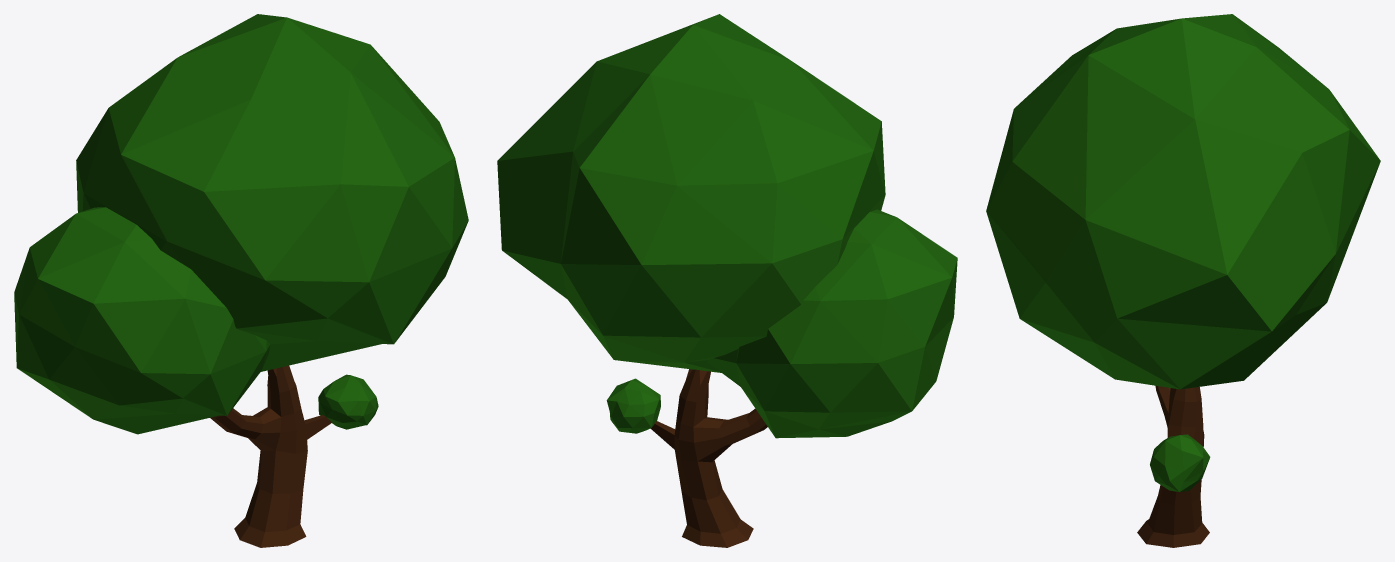
Rendered from Tree_01.FBX.
3 views of the same model, side by side, from view 1: azimuth 30°, elevation 25°; view 2: azimuth 150°, elevation 25°; view 3: azimuth 270°, elevation 25° (orthographic). The views are drawn at different scales.
Visible parts, largest first — view 1: bigHoja, mediumHoja, Wood, smallHoja; view 2: bigHoja, mediumHoja, Wood, smallHoja; view 3: bigHoja, Wood, smallHoja.
Part boxes in pixels (x1,y1,x2,y2): bigHoja: (76, 14, 468, 371); mediumHoja: (14, 207, 270, 434); Wood: (210, 365, 332, 547); smallHoja: (318, 374, 378, 429); bigHoja: (497, 14, 885, 372); mediumHoja: (707, 209, 957, 438); Wood: (650, 369, 767, 547); smallHoja: (606, 378, 660, 433); bigHoja: (986, 14, 1380, 389); Wood: (1137, 385, 1209, 547); smallHoja: (1150, 434, 1210, 491).
Bounding box in the file's own units: 142 × 161 × 110.
